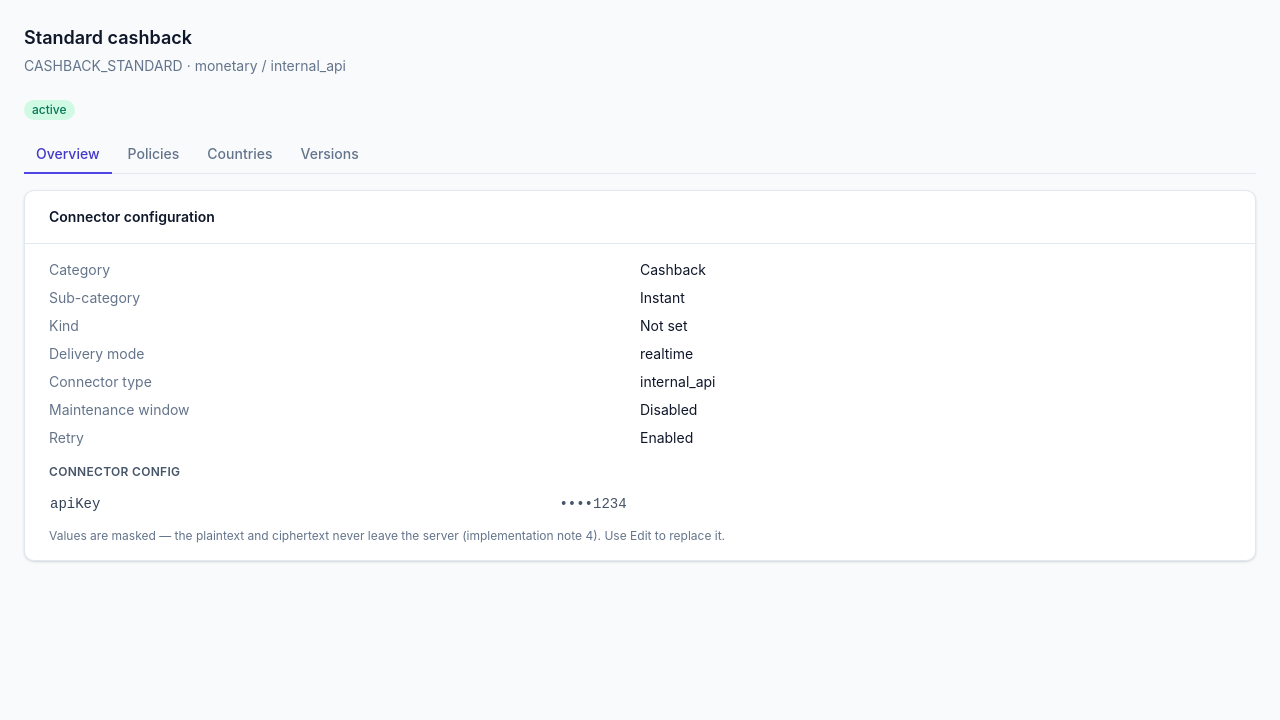
Test: RewardDetailPage › T-120 TC-6: the Countries tab lists exactly the reward_country_assignments rows returned
Click the tab "Countries" at (240, 155), box [195,136,284,174]
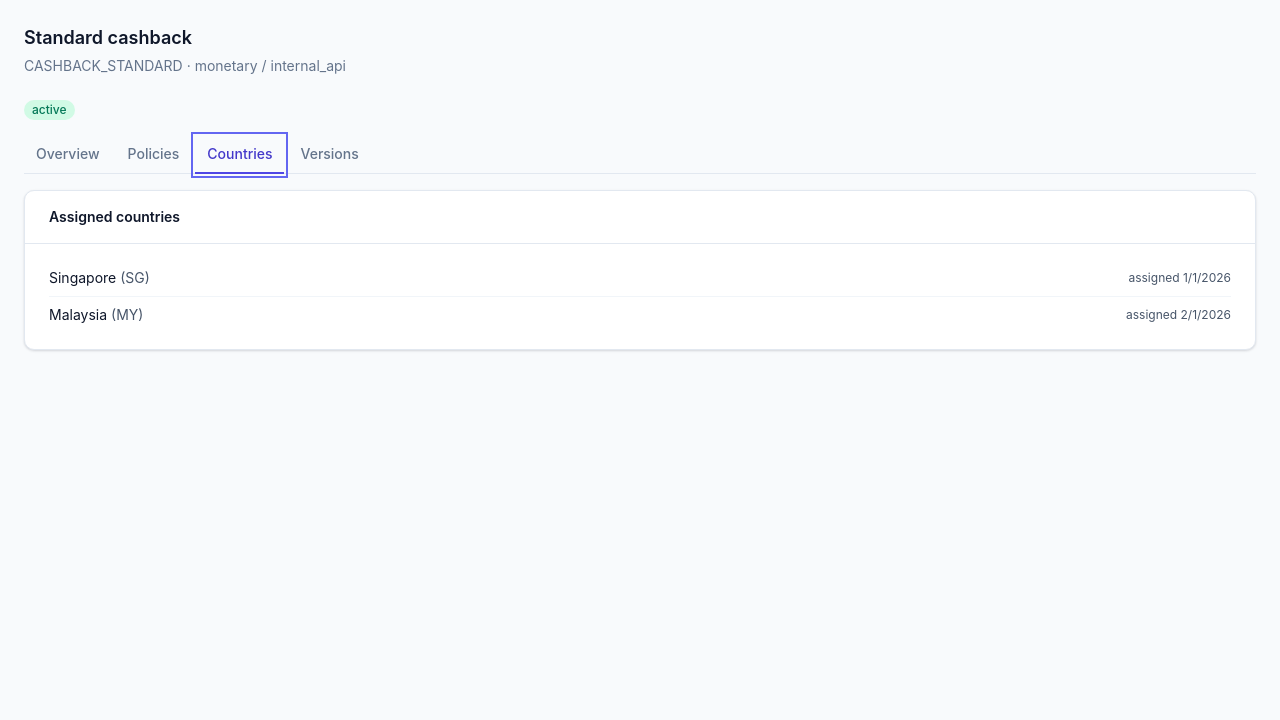
Now the number of list items is 2, box [49,269,1231,286]; [49,296,1231,333]
Now the list item "Singapore (SG) assigned 1/1/2026" is shown, box [49,269,1231,286]
Now the list item "Malaysia (MY) assigned 2/1/2026" is shown, box [49,296,1231,333]
